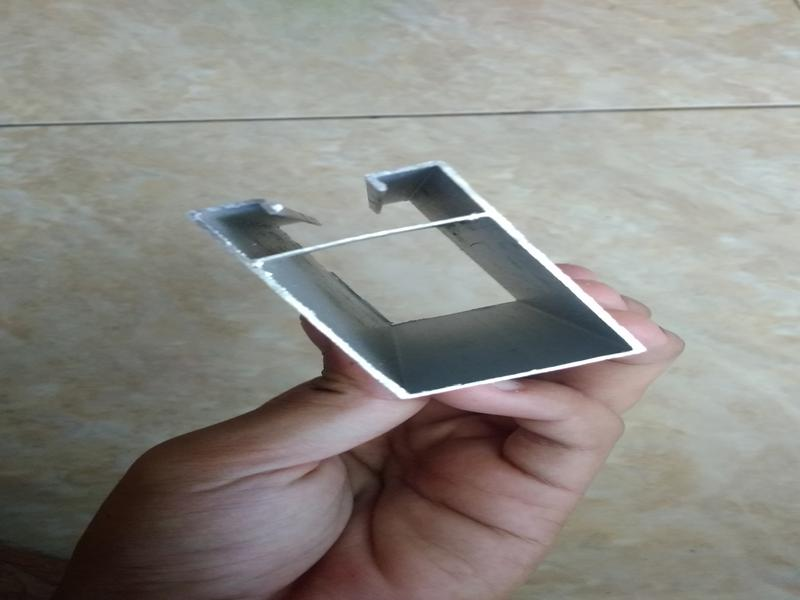Aluminium_1: (160, 129, 665, 398)
